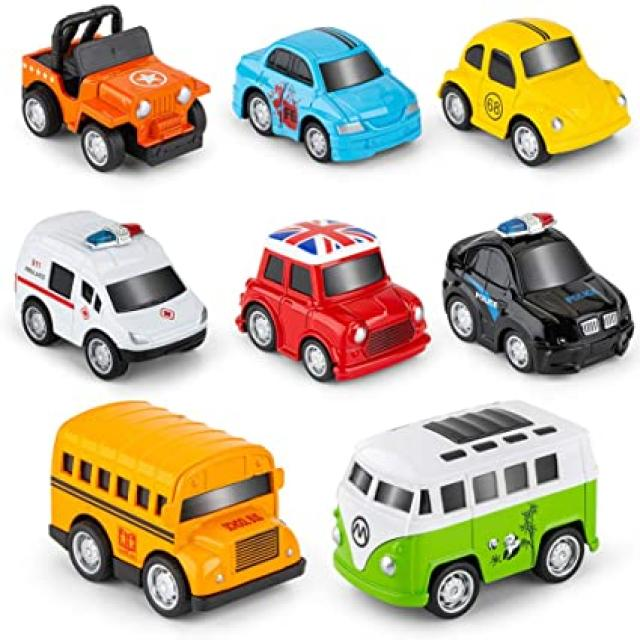Car: (12, 208, 208, 380), (233, 217, 431, 382), (441, 210, 634, 374), (437, 17, 631, 166), (230, 24, 422, 163)
